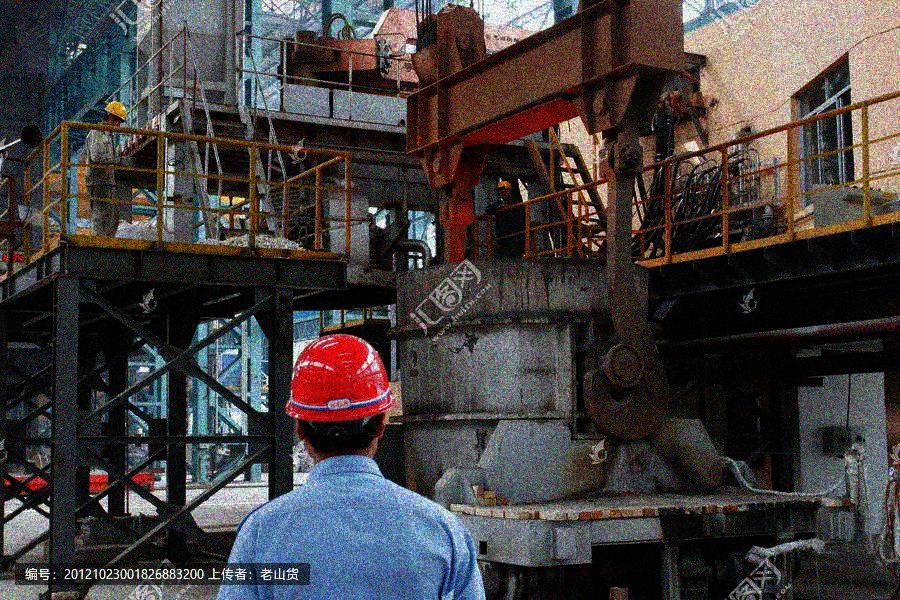helmet: (286, 332, 398, 464), (101, 99, 127, 128), (495, 180, 513, 202)
